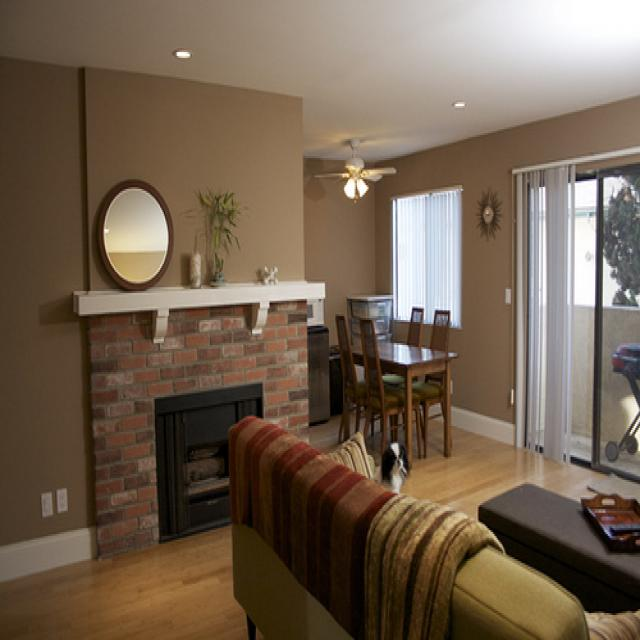chair: (334, 306, 451, 461)
dining table: (379, 331, 458, 470)
